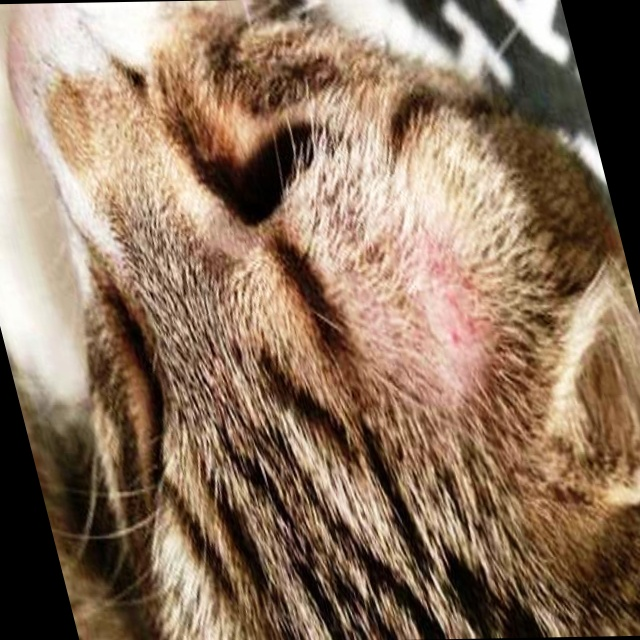ringworm: (345, 198, 509, 403)
